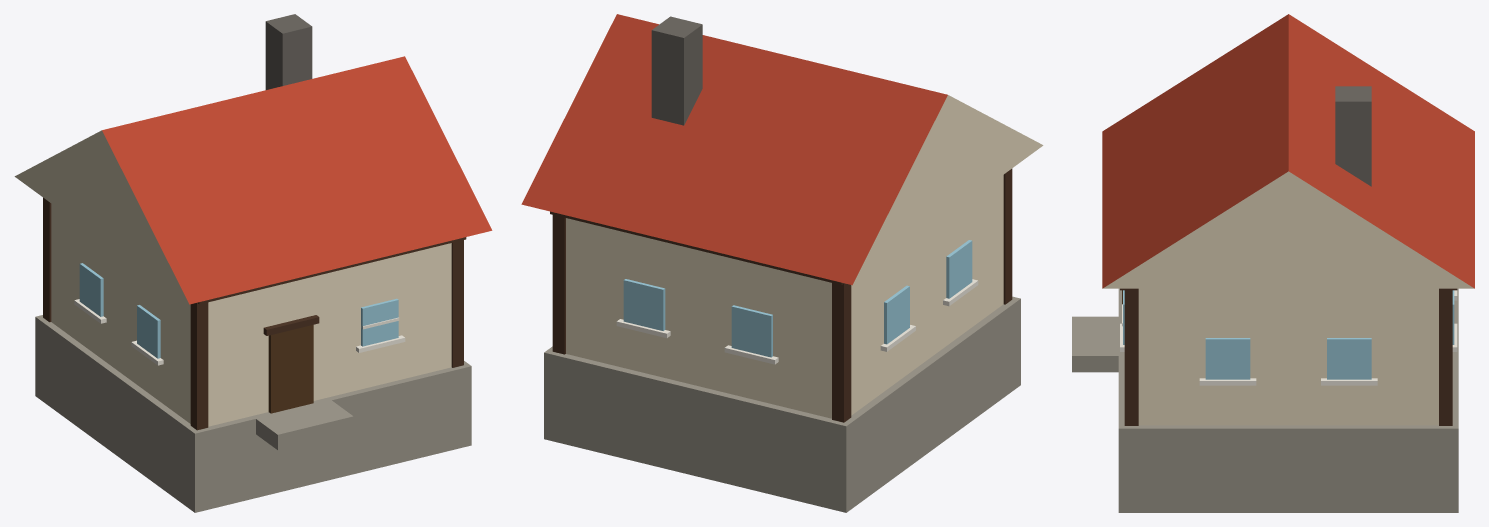
File: house_a.glb
3 views of the same model, side by side, from view 1: azimuth 30°, elevation 25°; view 2: azimuth 150°, elevation 25°; view 3: azimuth 270°, elevation 25° (orthographic). The views are drawn at different scales.
Visible parts, largest first — view 1: house_a-col; view 2: house_a-col; view 3: house_a-col.
Boxes of the visible parts, x1,y1,x2,y2 form: house_a-col: (14,14,492,512); house_a-col: (521,14,1043,512); house_a-col: (1072,14,1474,512).
Size of the model in its own units: 9.2 by 10.4 by 9.95.
